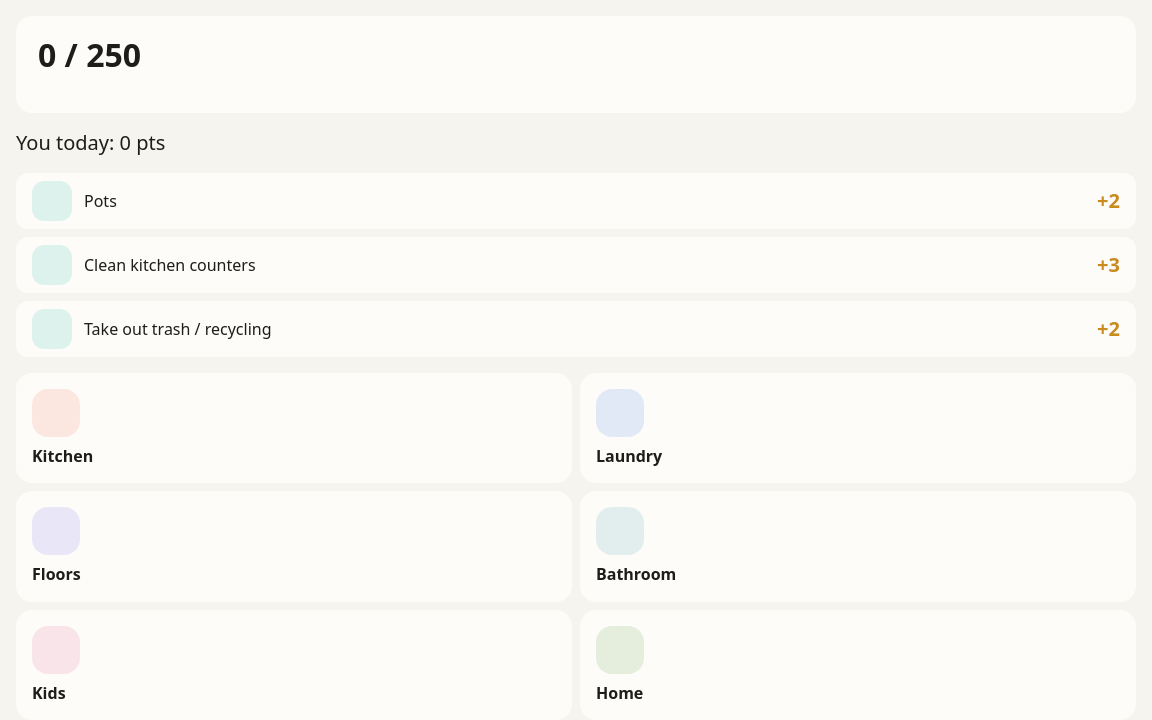
Test: LogScreen › shows the toast with Undo once the Next time sheet closes (Not now)
Click the button with test id "task-button" showing "Pots +2" at (52, 201), box [16,173,1136,229]
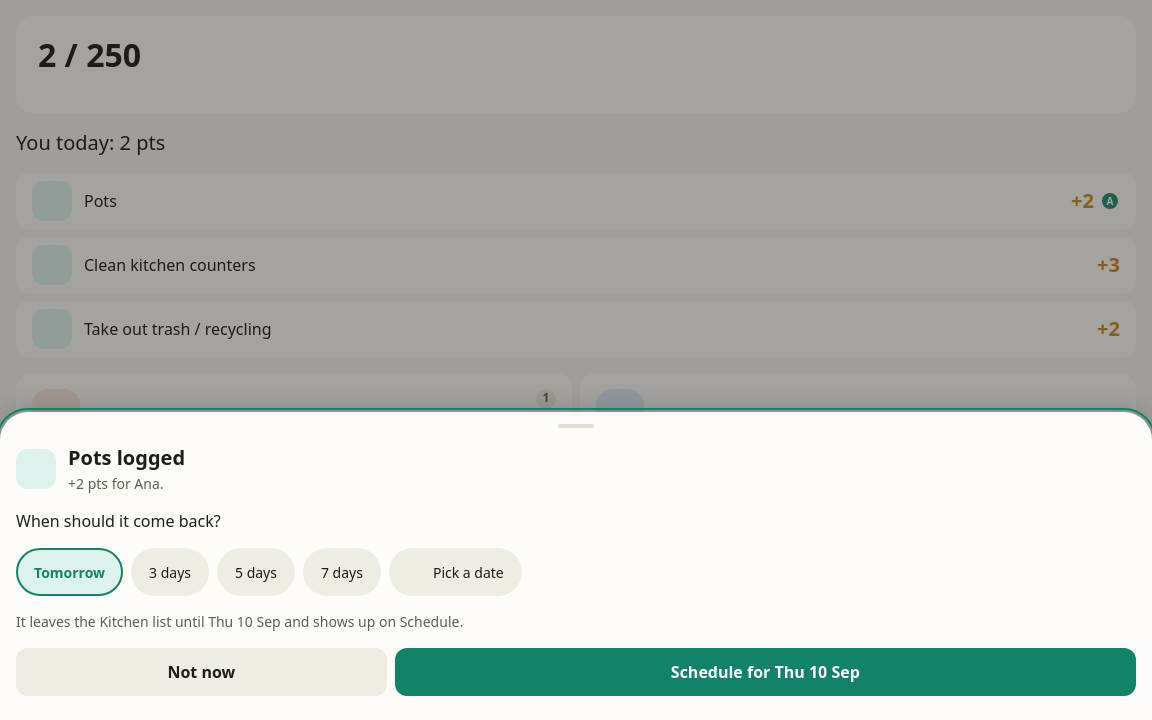
Click the button with test id "next-time-not-now" at (201, 672), box [16,648,387,696]
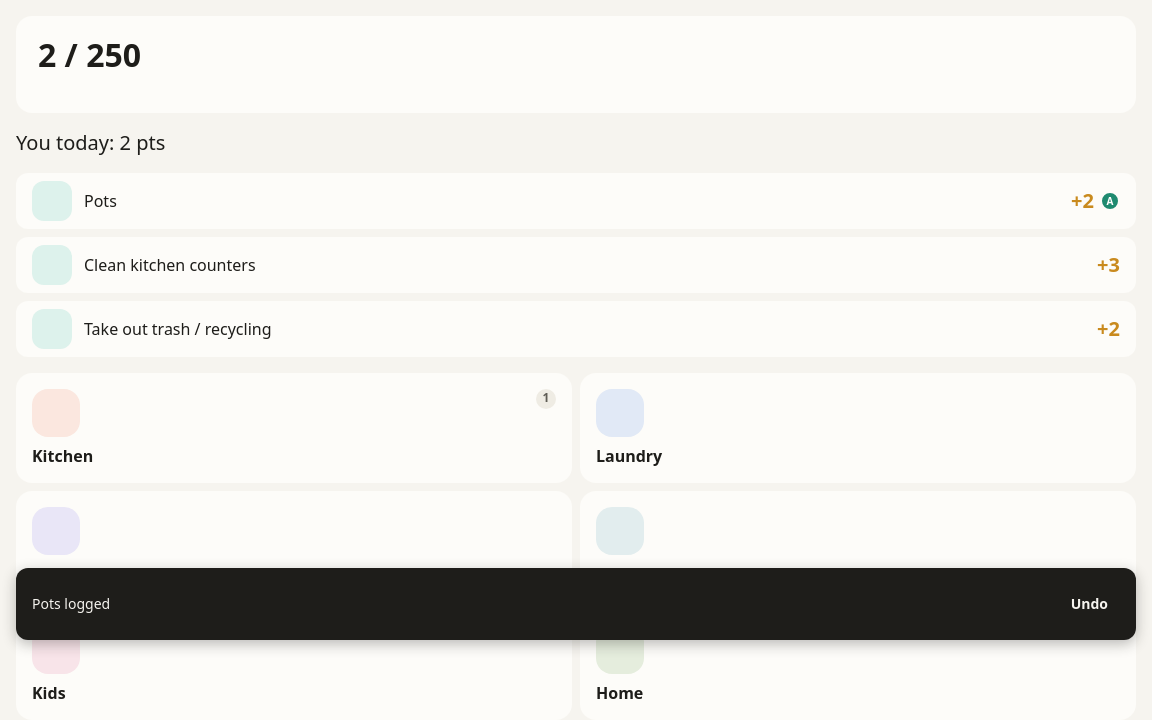
Check: the message "Pots logged Undo" is shown, box [16,568,1136,640]
Click the button "Undo" at (1089, 604), box [1059,580,1120,628]
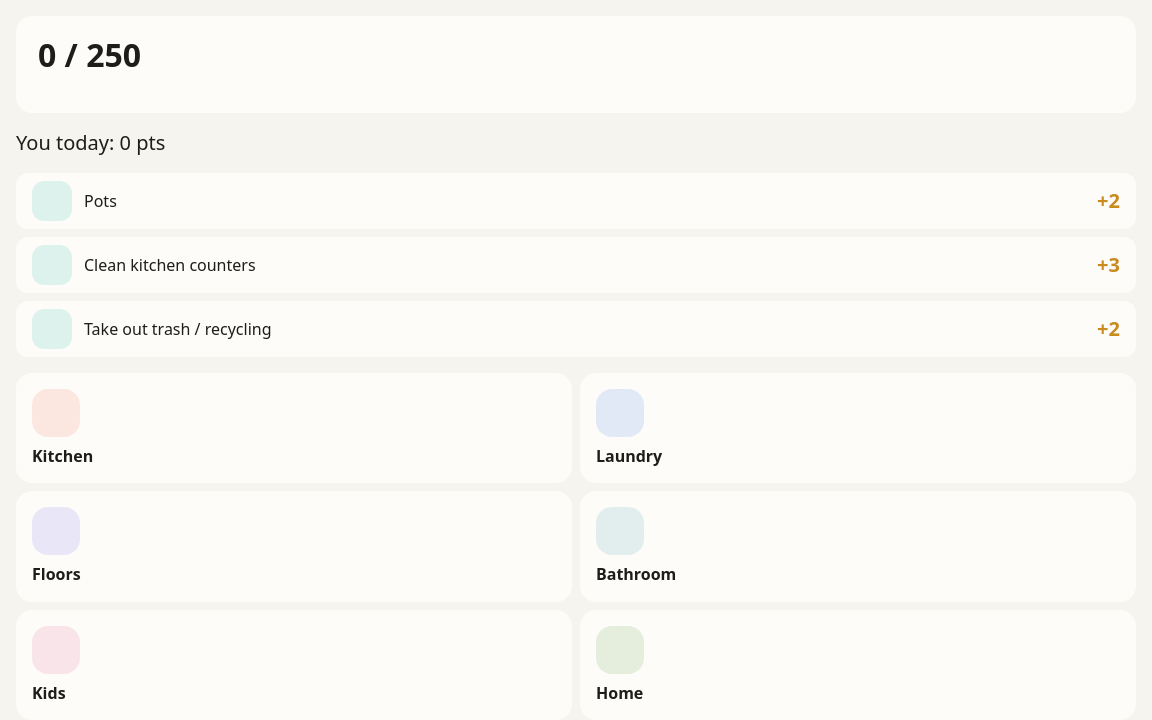
Check: the text "0 / 250" is shown, box [38,33,141,78]
